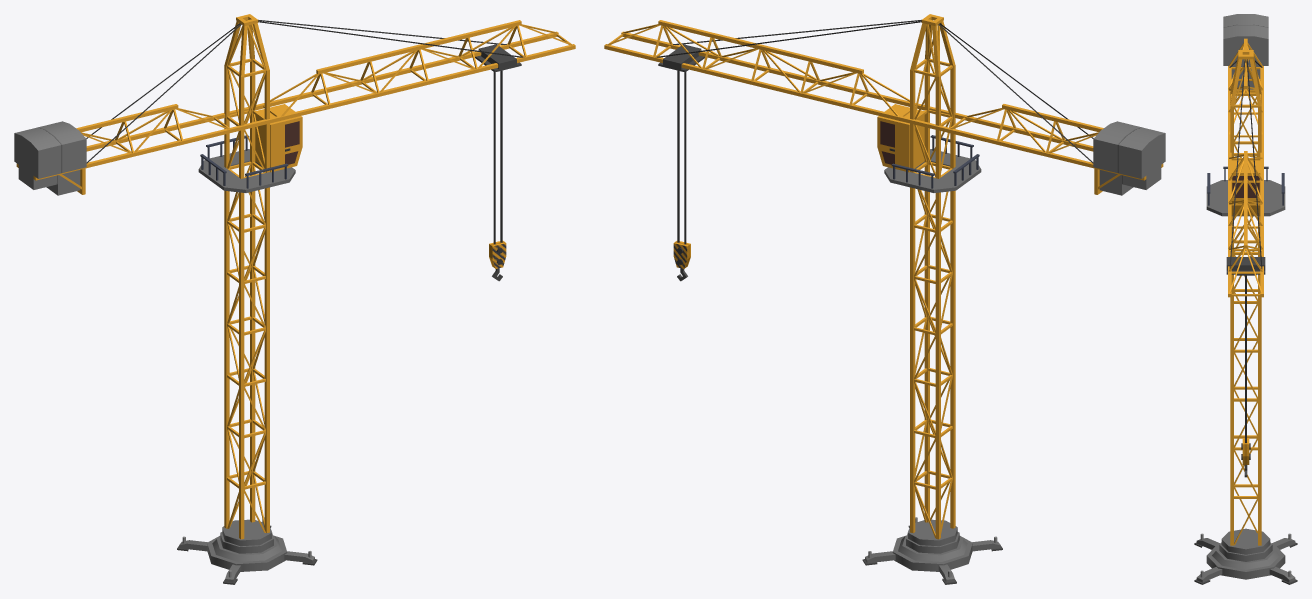
Rendered from TRF0610001.fbx.
3 views of the same model, side by side, from view 1: azimuth 30°, elevation 25°; view 2: azimuth 150°, elevation 25°; view 3: azimuth 270°, elevation 25° (orthographic). The views are drawn at different scales.
Parts seen in each view (by area): view 1: smTRF0610001; view 2: smTRF0610001; view 3: smTRF0610001.
Part boxes in pixels (box(x1,y1,x2,y2)): smTRF0610001: box(14, 14, 575, 584); smTRF0610001: box(604, 14, 1165, 584); smTRF0610001: box(1194, 14, 1297, 584).
Size of the model in its own units: 4059 by 3854 by 709.
1 material, 1 textured.
